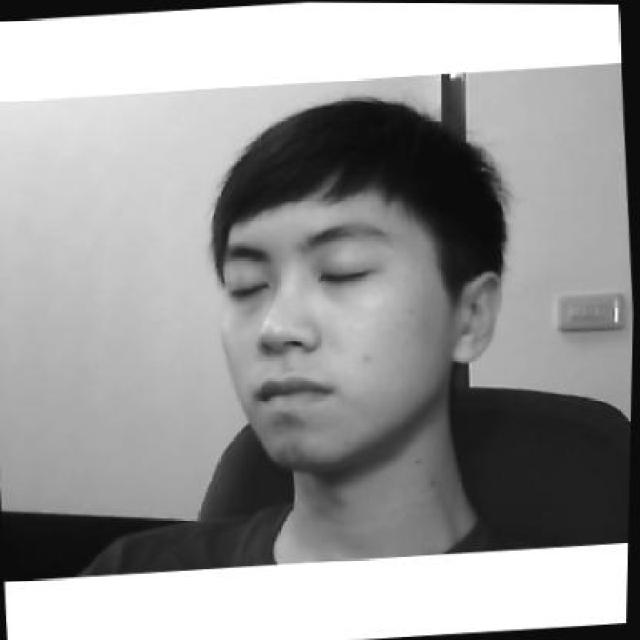inattentif: (202, 89, 518, 473)
